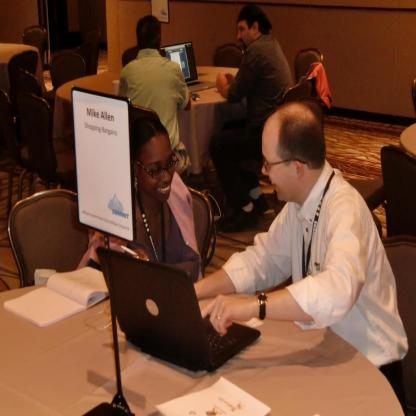board: (94, 246, 260, 372), (160, 41, 216, 94)
